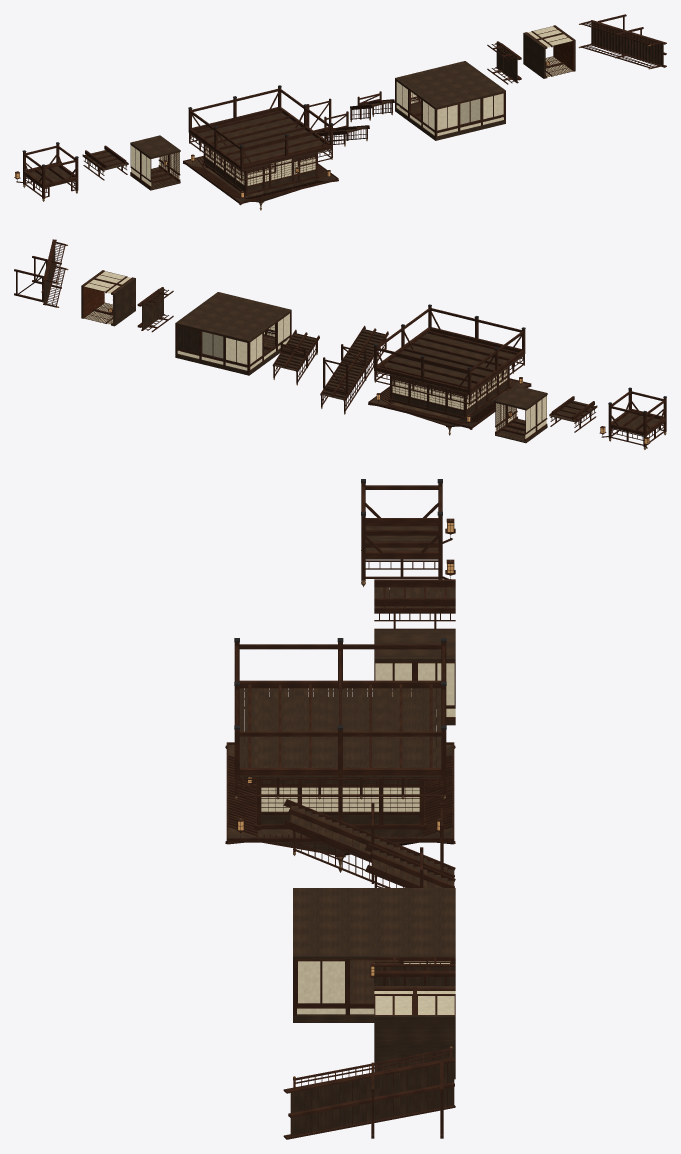
File: inverted_architecture.glb
The picture shows the model from 3 angles, top to bottom: view 1: azimuth 30°, elevation 25°; view 2: azimuth 150°, elevation 25°; view 3: azimuth 270°, elevation 25°; orthographic projection. The views are drawn at different scales.
Visible parts, largest first — view 1: IC06_Inverted_RoomBlock_A__Geo__Mesh, IC06_Inverted_TatamiRoom_A__Geo__Shell, IC06_Wall_Staircase_Full__Geo__Mesh, IC06_Inverted_Balcony_Square__Geo__Mesh, IC06_Inverted_Corridor_A__Geo__Shell, IC06_Wall_Corridor_A__Geo__Shell, IC06_Inverted_Staircase_Full__Geo__Mesh, IC06_Wall_Bridge_Straight__Geo__Mesh, IC06_Inverted_Bridge_Straight__Geo__Mesh, IC06_Inverted_Staircase_Half__Geo__Mesh; view 2: IC06_Inverted_RoomBlock_A__Geo__Mesh, IC06_Inverted_TatamiRoom_A__Geo__Shell, IC06_Inverted_Staircase_Full__Geo__Mesh, IC06_Inverted_Balcony_Square__Geo__Mesh, IC06_Inverted_Corridor_A__Geo__Shell, IC06_Wall_Corridor_A__Geo__Shell, IC06_Wall_Staircase_Full__Geo__Mesh, IC06_Inverted_Staircase_Half__Geo__Mesh, IC06_Wall_Bridge_Straight__Geo__Mesh, IC06_Inverted_Bridge_Straight__Geo__Mesh; view 3: IC06_Inverted_RoomBlock_A__Geo__Mesh, IC06_Inverted_TatamiRoom_A__Geo__Shell, IC06_Wall_Staircase_Full__Geo__Mesh, IC06_Inverted_Balcony_Square__Geo__Mesh, IC06_Wall_Corridor_A__Geo__Shell, IC06_Inverted_Staircase_Full__Geo__Mesh, IC06_Inverted_Bridge_Straight__Geo__Mesh, IC06_Inverted_Corridor_A__Geo__Shell, IC06_Inverted_Staircase_Half__Geo__Mesh, IC06_Wall_Bridge_Straight__Geo__Mesh, IC06_Inverted_TatamiRoom_A__Geo__WallW1a__Leaf, IC06_Inverted_TatamiRoom_A__Geo__WallW1b__Leaf.
Part boxes in pixels (x1,y1,x2,y2): IC06_Inverted_RoomBlock_A__Geo__Mesh: [183, 85, 338, 210]; IC06_Inverted_TatamiRoom_A__Geo__Shell: [395, 61, 505, 140]; IC06_Wall_Staircase_Full__Geo__Mesh: [578, 14, 666, 69]; IC06_Inverted_Balcony_Square__Geo__Mesh: [16, 142, 78, 201]; IC06_Inverted_Corridor_A__Geo__Shell: [130, 135, 180, 190]; IC06_Wall_Corridor_A__Geo__Shell: [523, 25, 575, 78]; IC06_Inverted_Staircase_Full__Geo__Mesh: [307, 98, 369, 146]; IC06_Wall_Bridge_Straight__Geo__Mesh: [487, 41, 521, 84]; IC06_Inverted_Bridge_Straight__Geo__Mesh: [82, 145, 128, 180]; IC06_Inverted_Staircase_Half__Geo__Mesh: [350, 91, 394, 122]; IC06_Inverted_RoomBlock_A__Geo__Mesh: [368, 304, 531, 435]; IC06_Inverted_TatamiRoom_A__Geo__Shell: [175, 292, 291, 375]; IC06_Inverted_Staircase_Full__Geo__Mesh: [320, 325, 388, 414]; IC06_Inverted_Balcony_Square__Geo__Mesh: [601, 387, 666, 449]; IC06_Inverted_Corridor_A__Geo__Shell: [495, 385, 547, 443]; IC06_Wall_Corridor_A__Geo__Shell: [81, 270, 135, 326]; IC06_Wall_Staircase_Full__Geo__Mesh: [14, 239, 68, 307]; IC06_Inverted_Staircase_Half__Geo__Mesh: [272, 329, 319, 385]; IC06_Wall_Bridge_Straight__Geo__Mesh: [137, 287, 173, 332]; IC06_Inverted_Bridge_Straight__Geo__Mesh: [549, 396, 597, 432]; IC06_Inverted_RoomBlock_A__Geo__Mesh: [225, 638, 455, 872]; IC06_Inverted_TatamiRoom_A__Geo__Shell: [293, 888, 455, 1022]; IC06_Wall_Staircase_Full__Geo__Mesh: [283, 1046, 455, 1139]; IC06_Inverted_Balcony_Square__Geo__Mesh: [361, 479, 452, 586]; IC06_Wall_Corridor_A__Geo__Shell: [374, 986, 455, 1079]; IC06_Inverted_Staircase_Full__Geo__Mesh: [283, 799, 455, 887]; IC06_Inverted_Bridge_Straight__Geo__Mesh: [374, 579, 455, 629]; IC06_Inverted_Corridor_A__Geo__Shell: [374, 629, 455, 725]; IC06_Inverted_Staircase_Half__Geo__Mesh: [365, 843, 455, 887]; IC06_Wall_Bridge_Straight__Geo__Mesh: [374, 957, 455, 985]; IC06_Inverted_TatamiRoom_A__Geo__WallW1a__Leaf: [321, 960, 345, 1004]; IC06_Inverted_TatamiRoom_A__Geo__WallW1b__Leaf: [297, 960, 321, 1004].
Size of the model in its own units: 69.42 by 10.29 by 11.32.
Materials: 10 (7 with a texture image).
